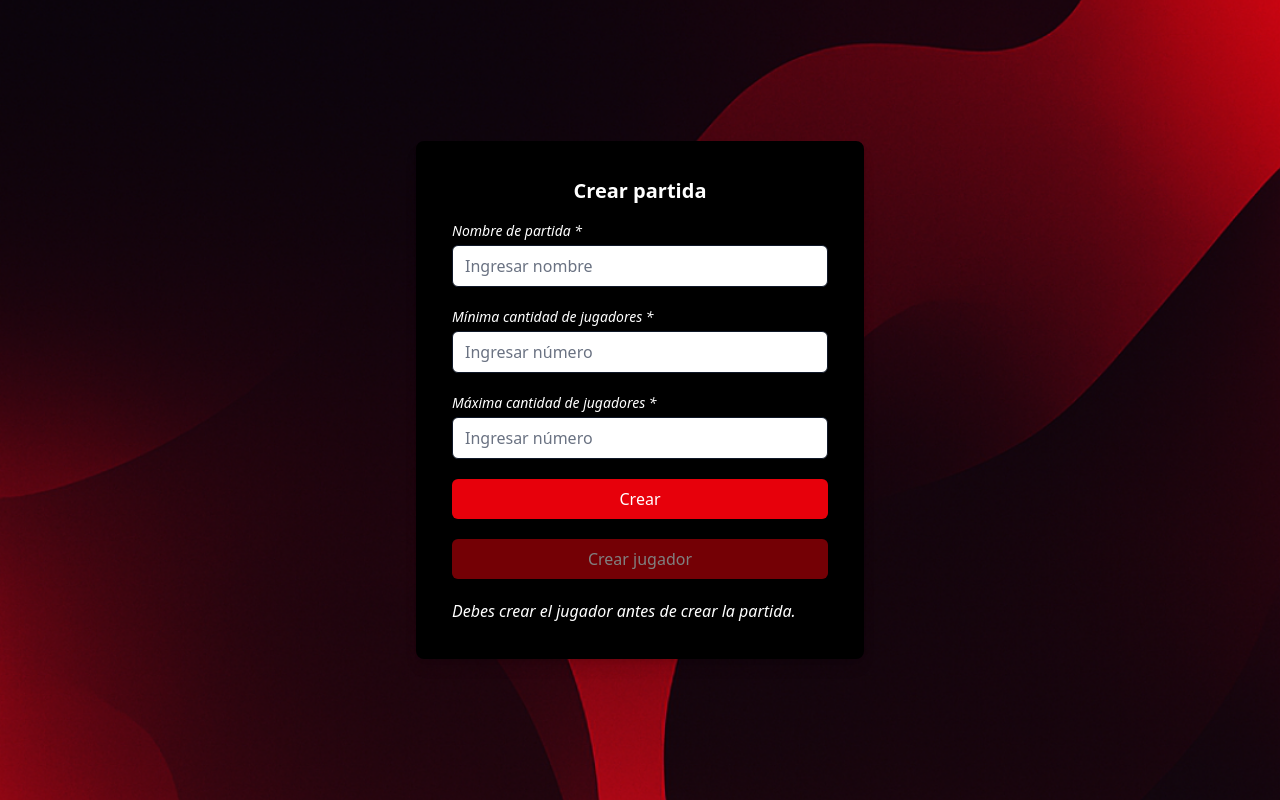
Test: GameForm › Ingreso de datos › Se lanza error si se ingresa nombre de partida con numeros
The width and height of the screenshot is (1280, 800).
In the field labelled "Nombre de partida *": (640, 266) [452, 245, 828, 287], type "Partida de JamafMeRendir3"
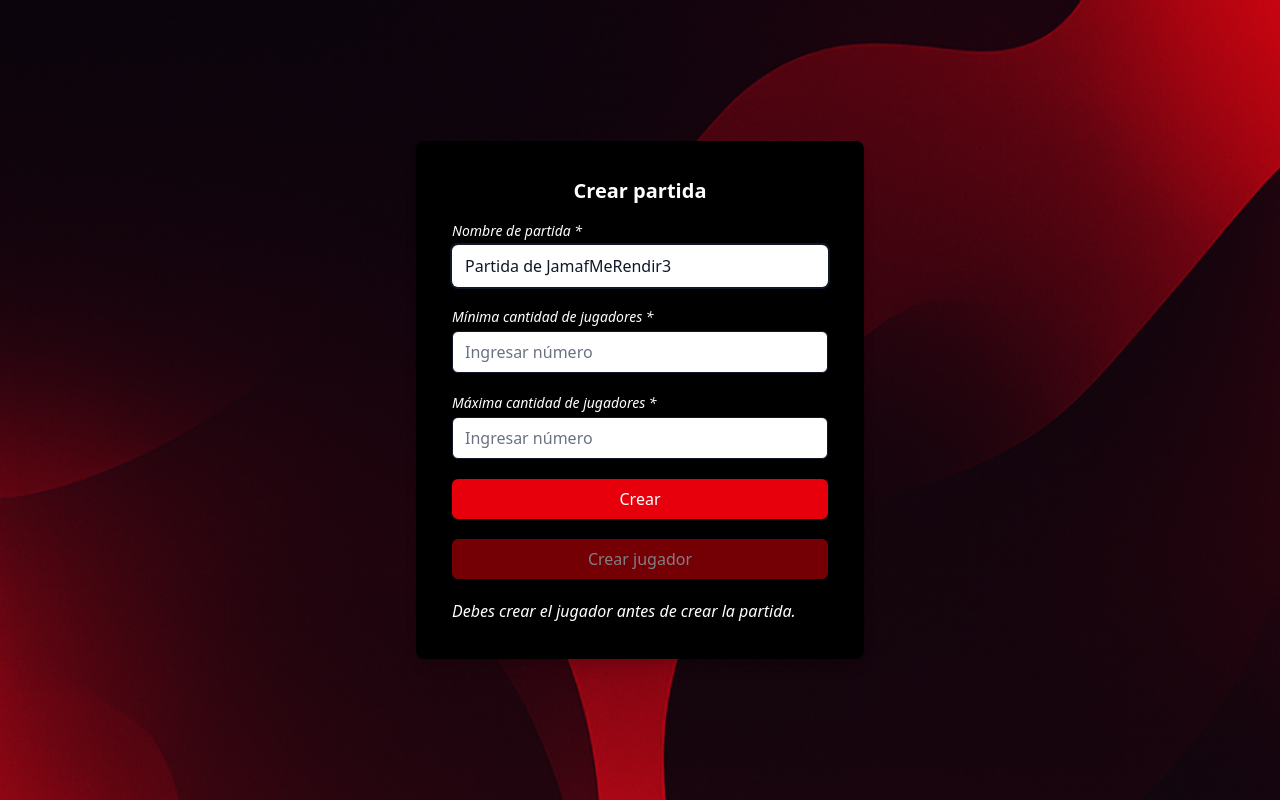
Click the button "Crear": (640, 499) [452, 479, 828, 519]
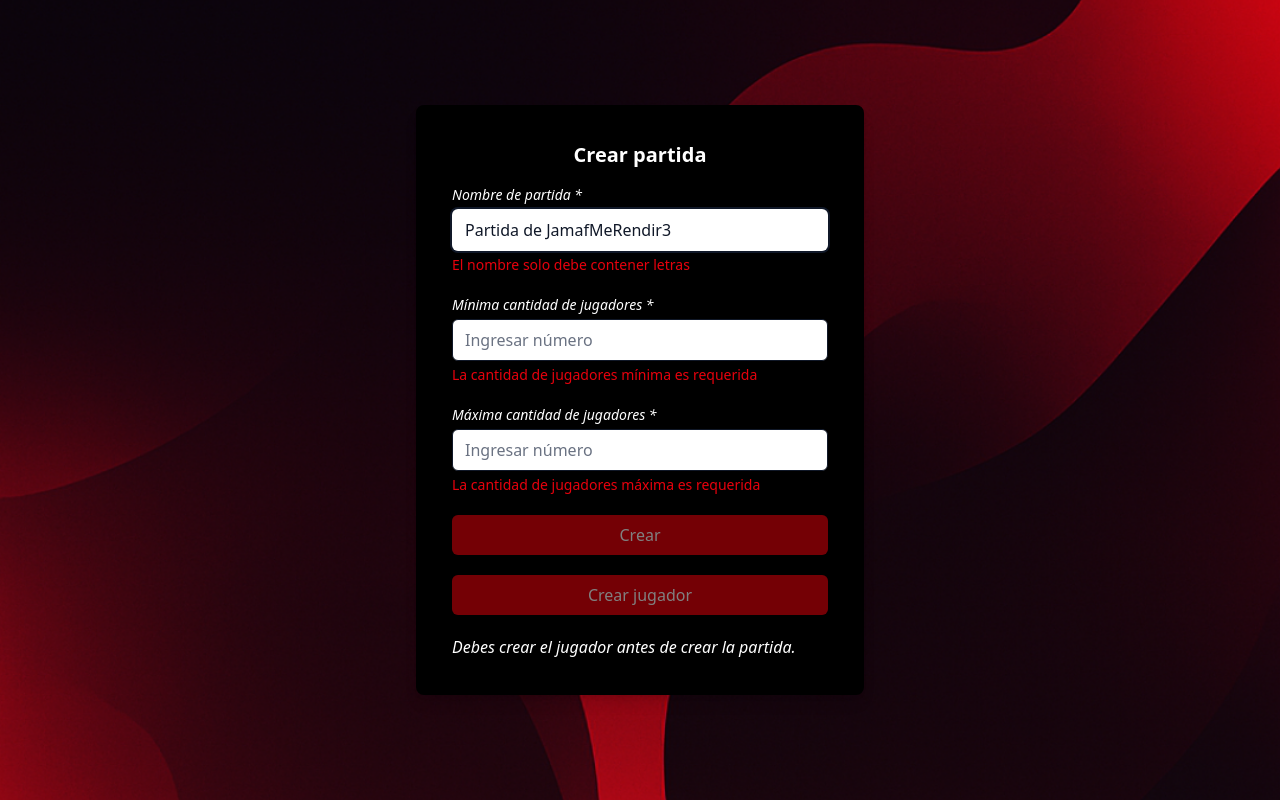
Expected: the text "El nombre solo debe contener letras" is shown, [452, 255, 690, 274]
